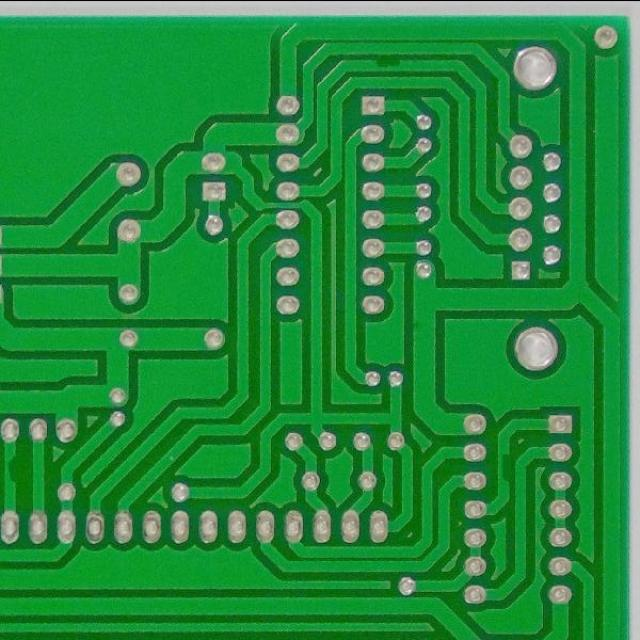MouseBite: (494, 447, 514, 490), (1, 450, 21, 489), (369, 56, 408, 72)
